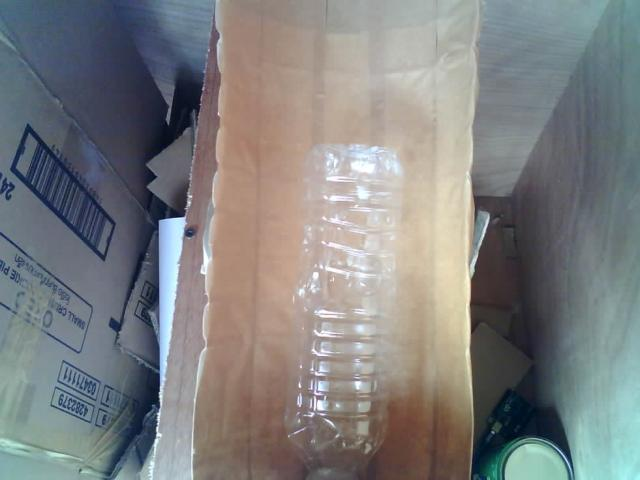small_bottle: (266, 125, 423, 480)
